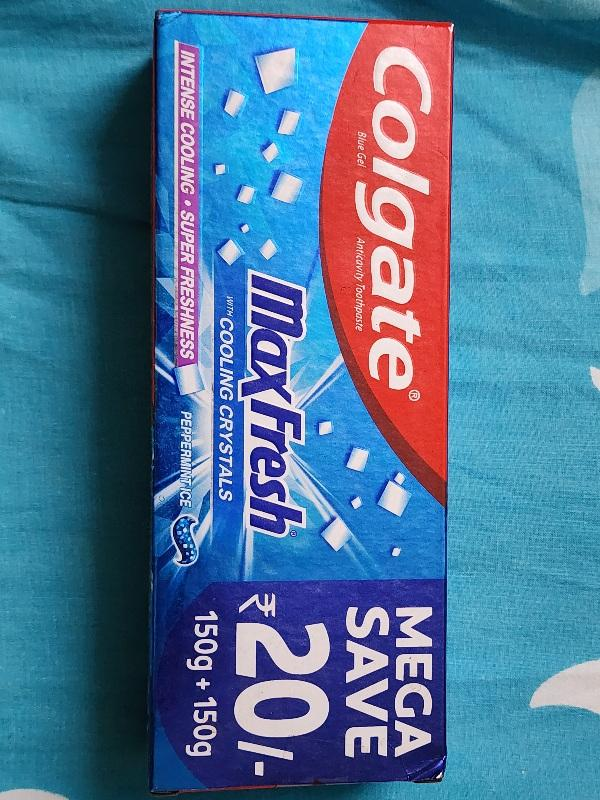Colgate: (156, 13, 449, 786)
